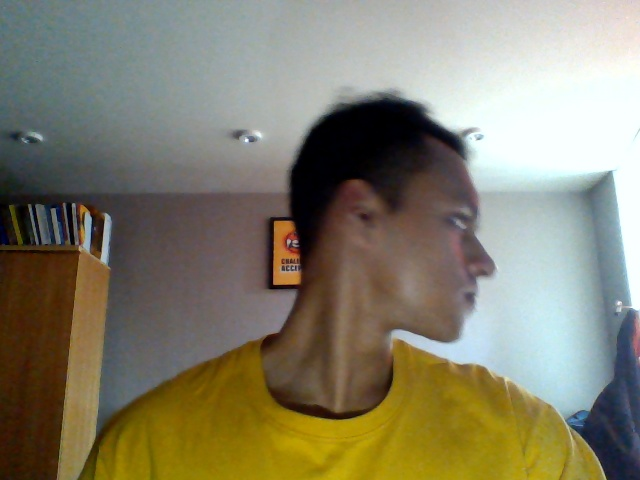no_mask: (369, 234, 501, 346)
